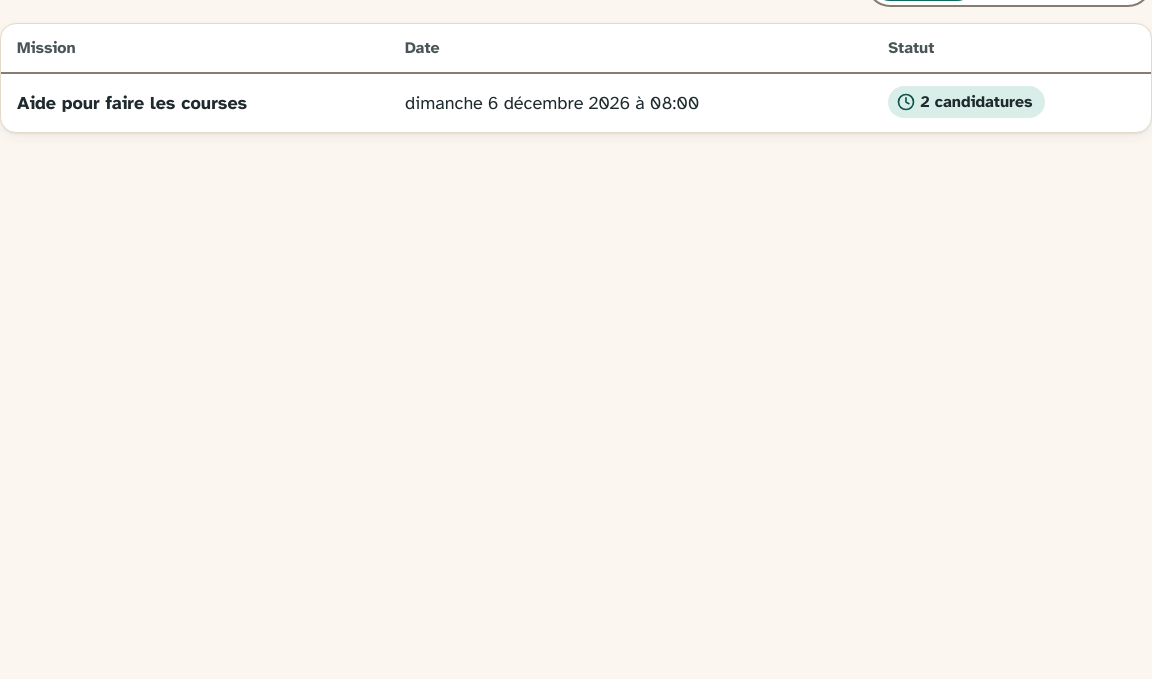
PublishedMissionList › shows the presentation of each candidate, collapsed
Click the row that starts with "Aide pour faire les courses".
click(576, 103)  # box x1=1 y1=74 x2=1151 y2=132
(page scrolled)
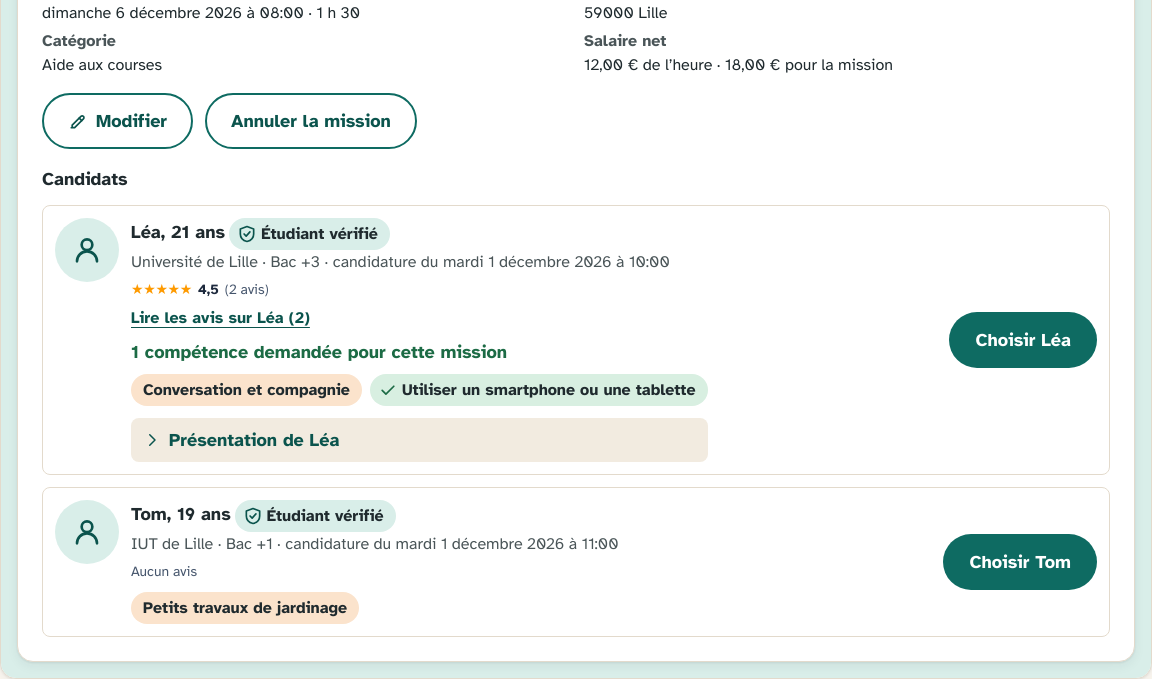
Check: the heading "Présentation de Léa" is shown, box x1=143 y1=429 x2=339 y2=451
